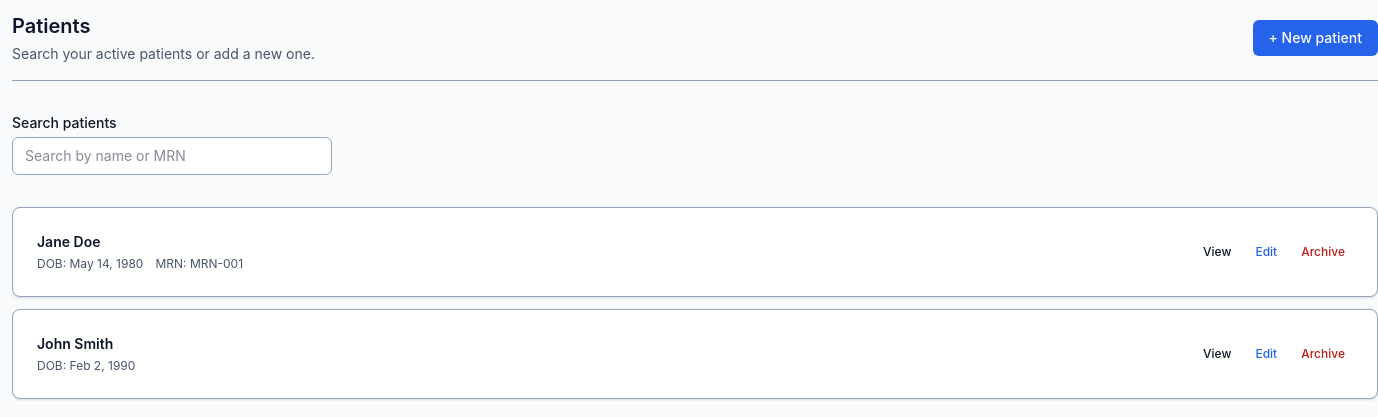
Test: PatientsPage › searches by first or last name
Expected: the link "Jane Doe" is shown, [37,233,100,250]
Type "smith" into the search field labelled "Search patients" at (172, 156), box [12,137,332,175]
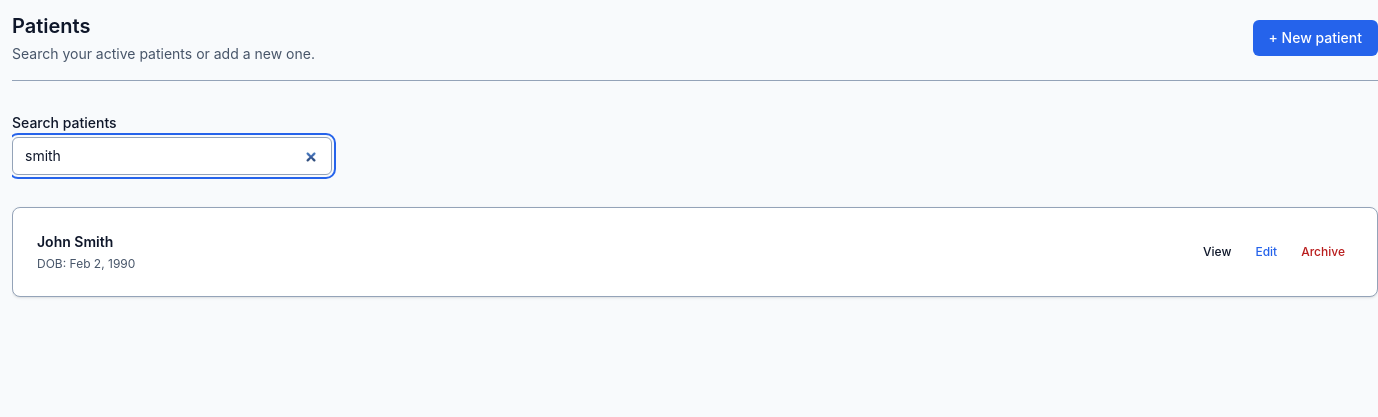
Expected: the link "John Smith" is shown, [37,233,113,250]
Expected: the link "Jane Doe" is gone
